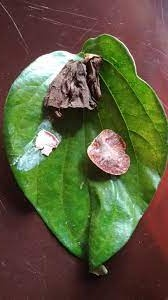bulathwita: (1, 34, 166, 275)
